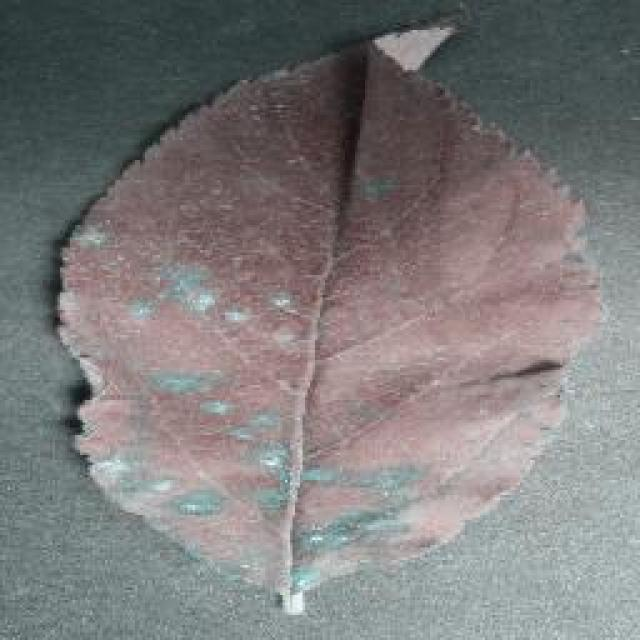apple scab disease: (53, 22, 605, 612)
